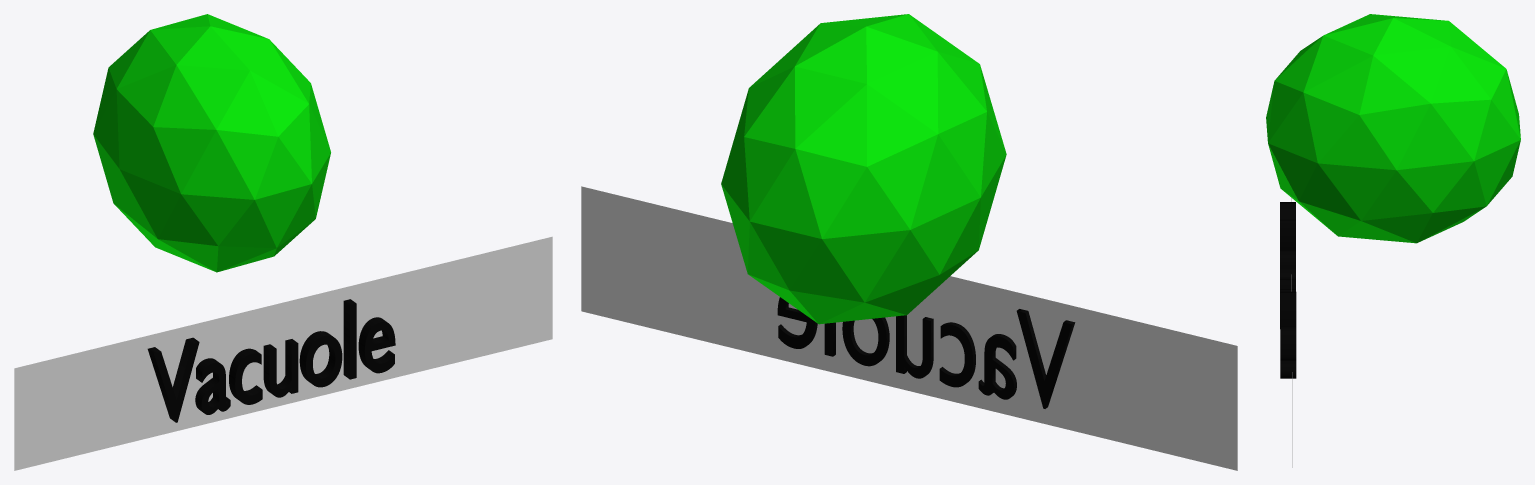
File: vacuole.gltf
The picture shows the model from 3 angles, left to right: view 1: azimuth 30°, elevation 25°; view 2: azimuth 150°, elevation 25°; view 3: azimuth 270°, elevation 25°; orthographic projection. The views are drawn at different scales.
Parts seen in each view (by area): view 1: Plane.041, Icosphere.008, Text.031; view 2: Icosphere.008, Plane.041, Text.031; view 3: Icosphere.008, Text.031.
Boxes of the visible parts, box(x1,y1,x2,y2) form: Plane.041: box(14, 236, 552, 470); Icosphere.008: box(93, 14, 330, 272); Text.031: box(147, 299, 395, 422); Icosphere.008: box(721, 14, 1006, 324); Plane.041: box(581, 186, 1237, 470); Text.031: box(777, 297, 1075, 408); Icosphere.008: box(1266, 14, 1520, 243); Text.031: box(1280, 202, 1296, 378).
Bounding box in the file's own units: 1.33 × 0.8135 × 0.5846.
